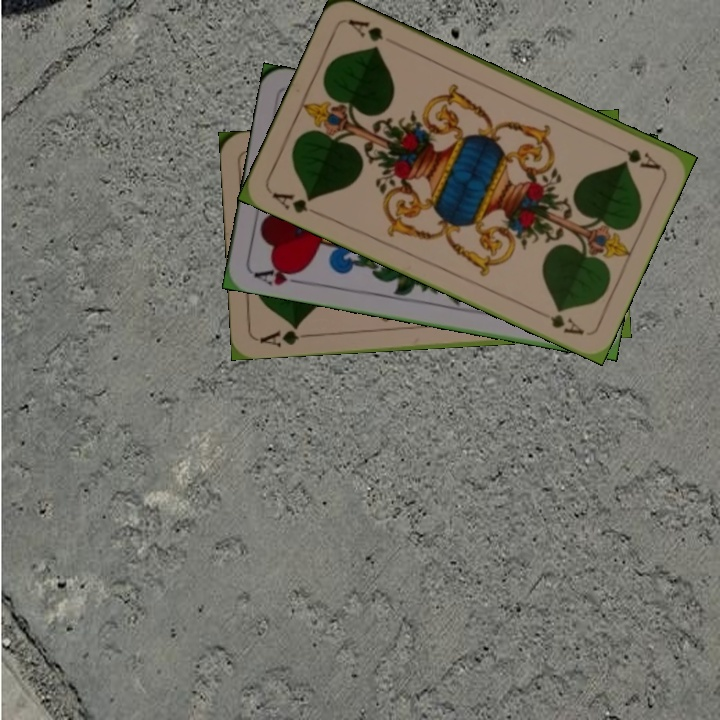GA: (608, 139, 664, 173), (268, 188, 324, 219), (255, 321, 314, 349)
HA: (250, 261, 309, 288)
